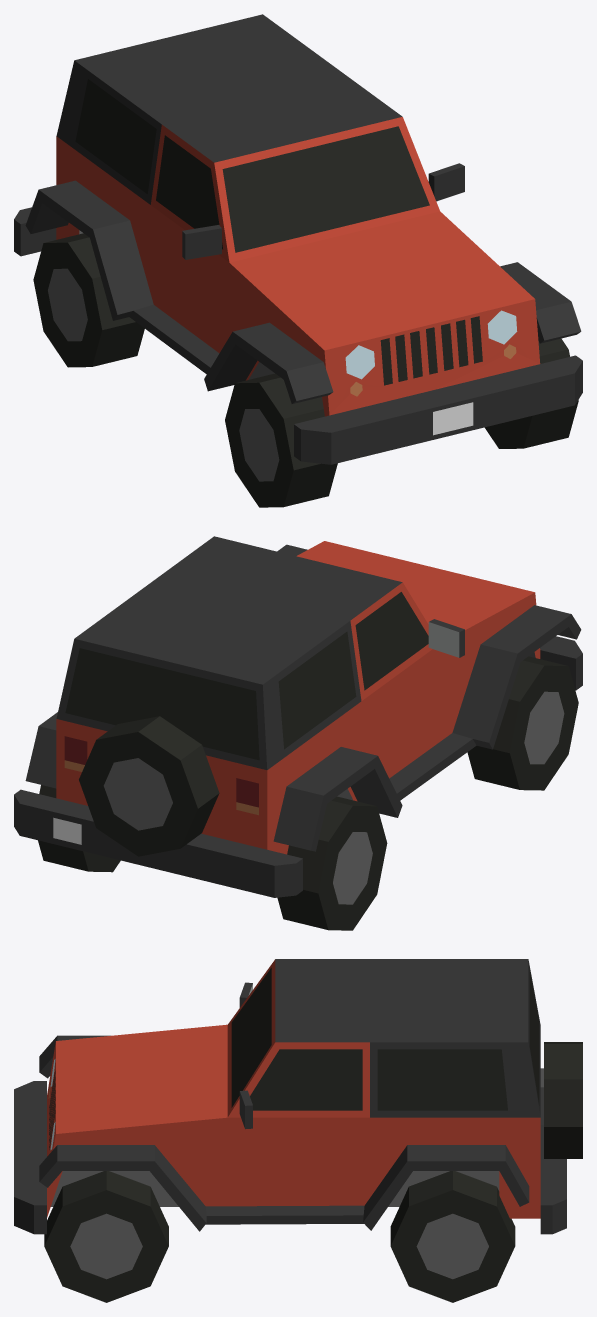
The model's file is Veh_SUV_03_Red.glb.
The picture shows the model from 3 angles, top to bottom: view 1: azimuth 30°, elevation 25°; view 2: azimuth 150°, elevation 25°; view 3: azimuth 270°, elevation 25°; orthographic projection. The views are drawn at different scales.
Visible parts, largest first — view 1: SUV_03_Red, Wheel_FR, Wheel_RR, Wheel_FL; view 2: SUV_03_Red, Wheel_RR, Wheel_FR, Wheel_RL; view 3: SUV_03_Red, Wheel_RL, Wheel_FL.
Part boxes in pixels (box(x1,y1,x2,y2)): SUV_03_Red: box(14, 14, 582, 464); Wheel_FR: box(225, 373, 337, 507); Wheel_RR: box(33, 233, 144, 367); Wheel_FL: box(484, 338, 578, 448); SUV_03_Red: box(14, 536, 582, 897); Wheel_RR: box(277, 796, 387, 930); Wheel_FR: box(467, 656, 578, 790); Wheel_RL: box(38, 785, 120, 872); SUV_03_Red: box(14, 959, 582, 1234); Wheel_RL: box(390, 1171, 515, 1302); Wheel_FL: box(44, 1171, 168, 1302).
Size of the model in its own units: 1.19 by 1.06 by 2.28.
Materials: 1 (1 with a texture image).
